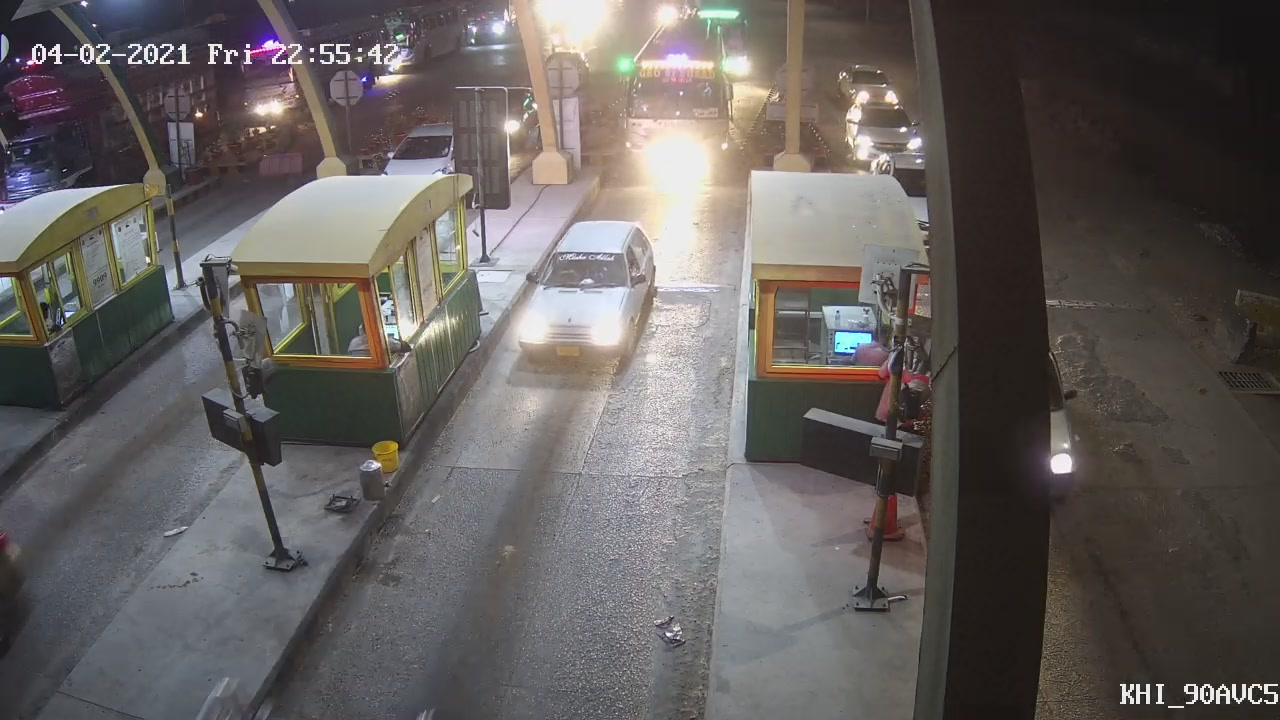F1: (509, 220, 660, 368)
